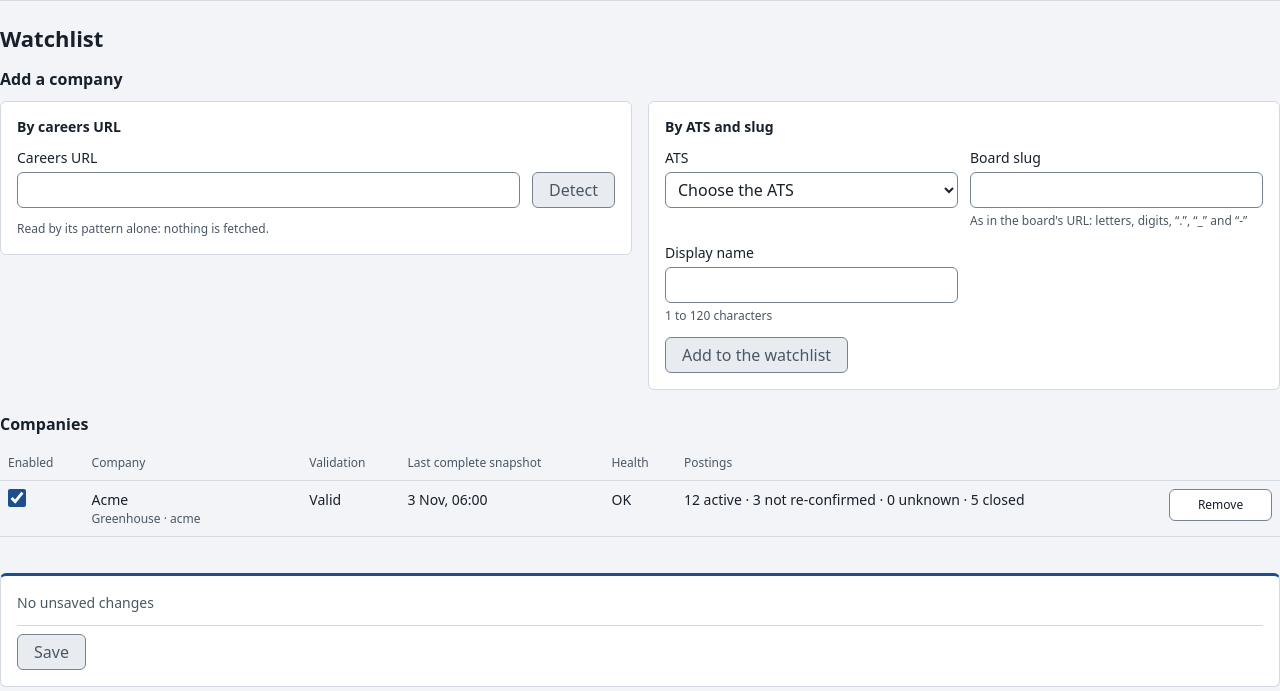
Test: WatchlistSection › add posts and the list shows unvalidated
Step 1. Type "https://jobs.eu.lever.co/acme-labs" into the field labelled "Careers URL" → (268, 190), box [17, 172, 520, 208]
Then press Enter
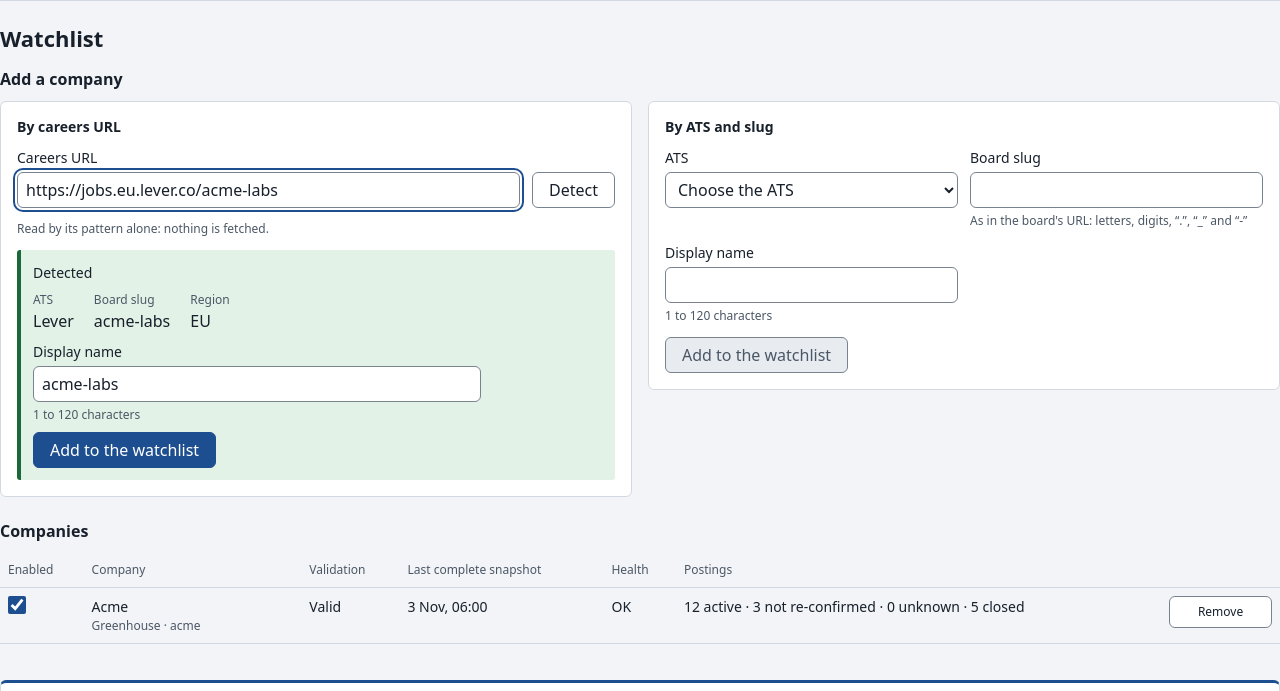
Step 2. Replace the text in the field labelled "Display name" below "Lever" with "Acme Labs" → (257, 384), box [33, 366, 481, 402]
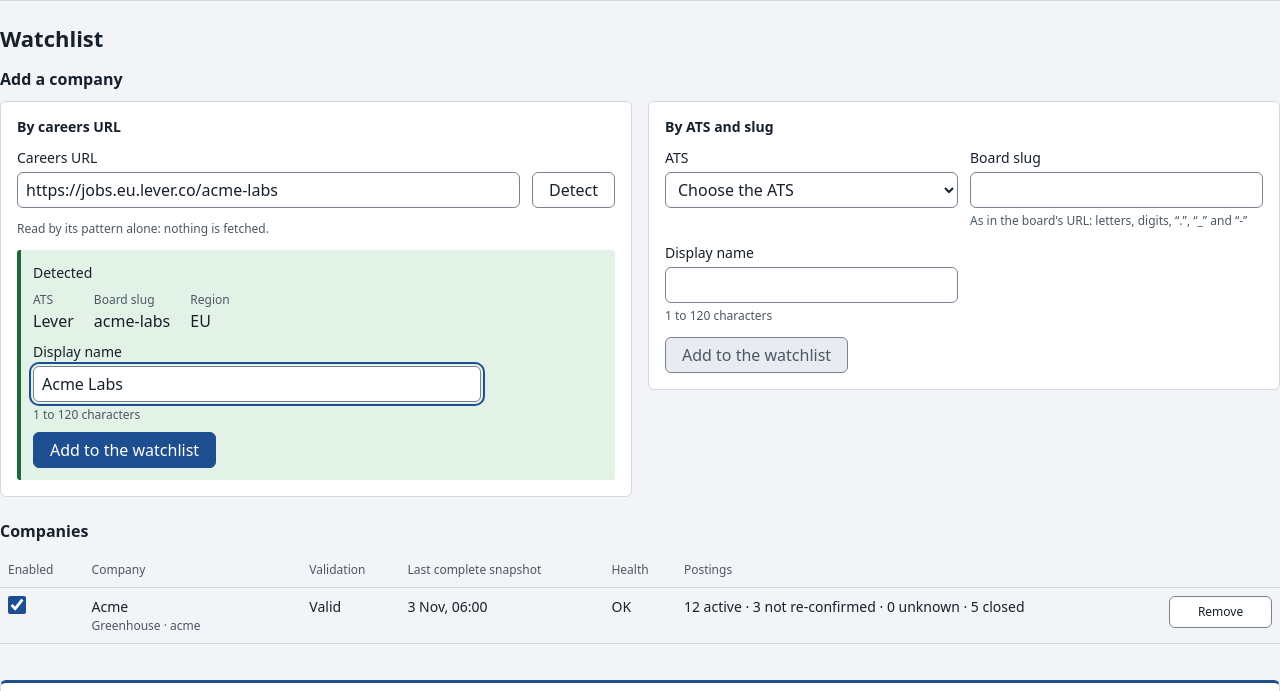
Step 3. Click the button "Add to the watchlist" below "Lever" → (125, 450), box [33, 432, 216, 468]
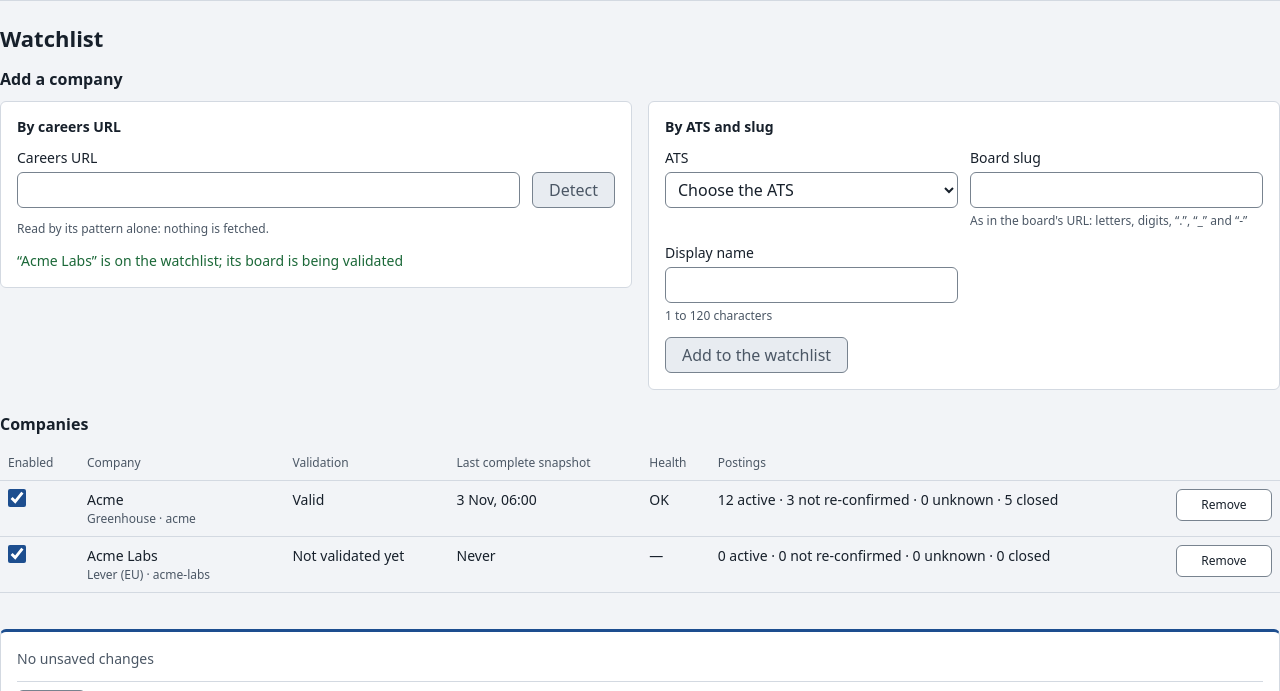
Check: the row that starts with "Acme Labs" shows "Not validated yet", box [292, 546, 404, 565]
Check: the checkbox named "Enable “Acme Labs”" is checked, box [8, 545, 26, 563]
Check: the text "“Acme Labs” is on the watchlist; its board is being validated" is shown, box [17, 251, 403, 270]
